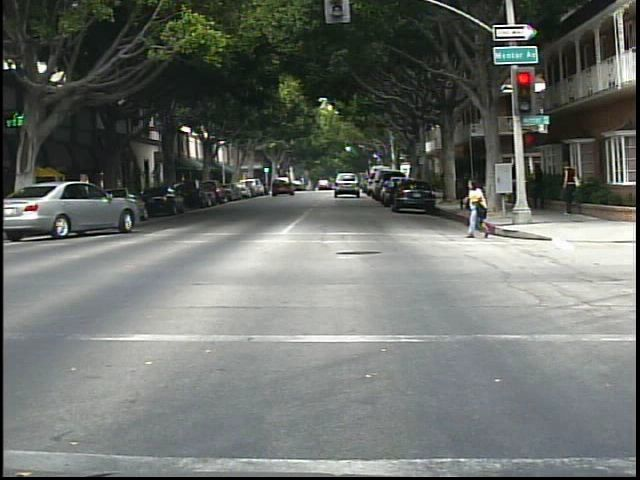person: (460, 175, 495, 243), (558, 155, 587, 216), (532, 158, 554, 215)
